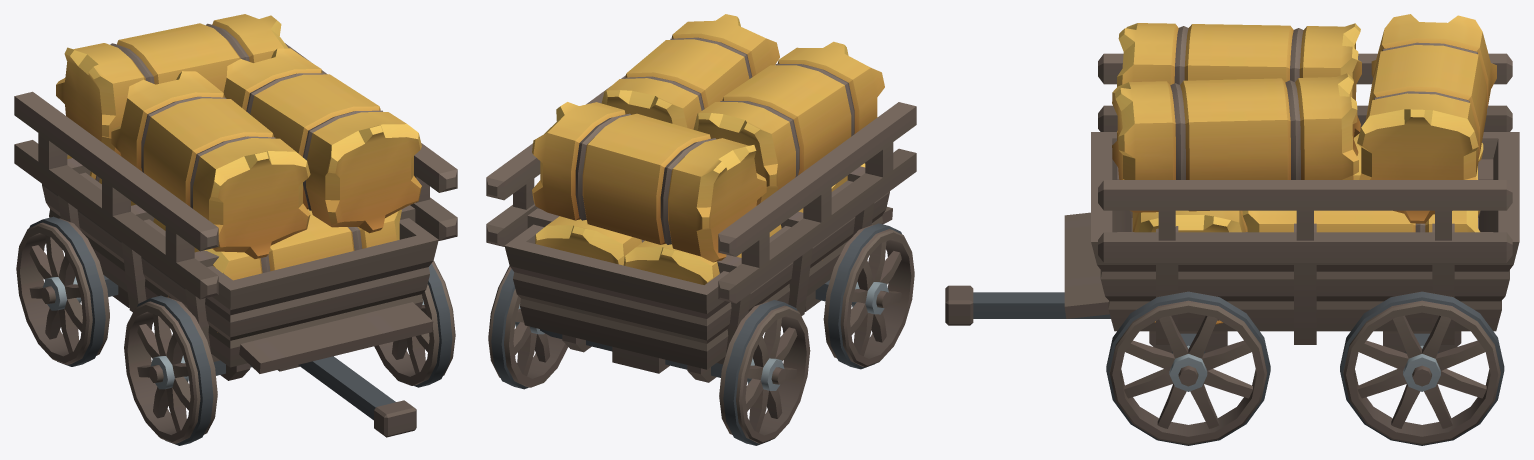
Rendered from wagon_hay.gltf.
3 views of the same model, side by side, from view 1: azimuth 30°, elevation 25°; view 2: azimuth 150°, elevation 25°; view 3: azimuth 270°, elevation 25° (orthographic). The views are drawn at different scales.
Parts seen in each view (by area): view 1: wagon_hay, wagon_hay_wheel_front_right, wagon_hay_wheel_rear_right, wagon_hay_wheel_front_left; view 2: wagon_hay, wagon_hay_wheel_front_right, wagon_hay_wheel_rear_right, wagon_hay_wheel_rear_left; view 3: wagon_hay, wagon_hay_wheel_front_left, wagon_hay_wheel_rear_left.
Boxes of the visible parts, x1,y1,x2,y2 form: wagon_hay: (14, 14, 457, 437); wagon_hay_wheel_front_right: (124, 295, 217, 445); wagon_hay_wheel_rear_right: (16, 216, 109, 366); wagon_hay_wheel_front_left: (374, 260, 455, 387); wagon_hay: (486, 14, 916, 382); wagon_hay_wheel_front_right: (823, 223, 914, 369); wagon_hay_wheel_rear_right: (719, 300, 810, 445); wagon_hay_wheel_rear_left: (488, 266, 568, 389); wagon_hay: (945, 14, 1519, 353); wagon_hay_wheel_front_left: (1106, 291, 1270, 445); wagon_hay_wheel_rear_left: (1340, 291, 1504, 445).
Size of the model in its own units: 2.97 by 3.05 by 4.99.
Materials: 1 (1 with a texture image).
